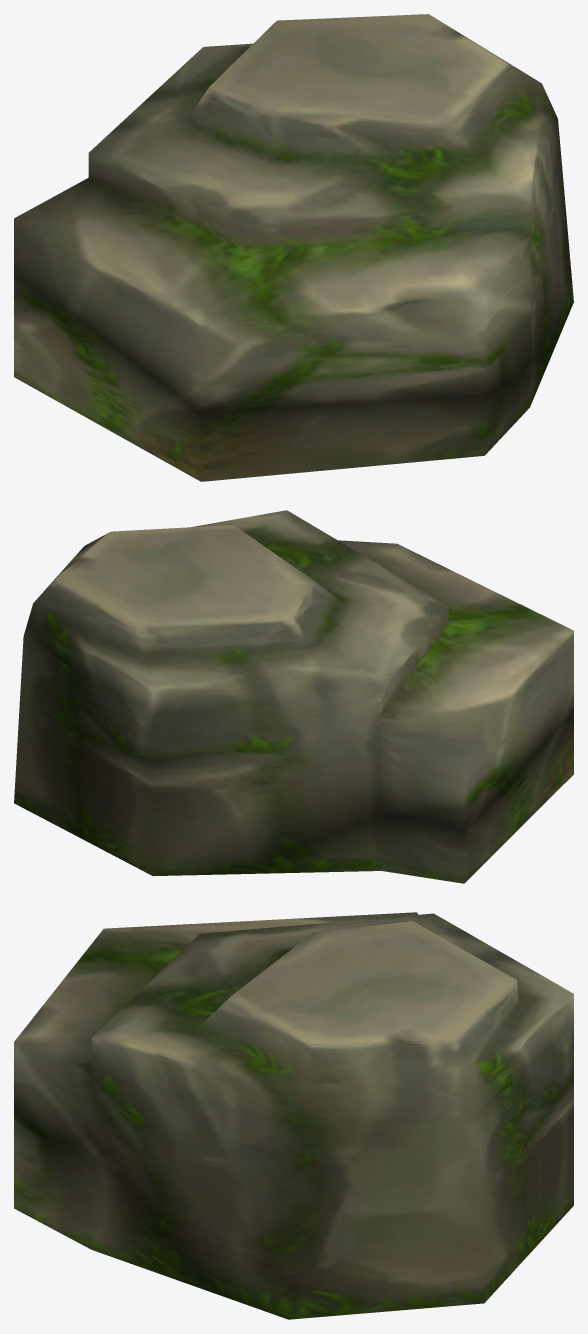
The model's file is RockFormation_4_5 (53).fbx.
3 views of the same model, one above another, from view 1: azimuth 30°, elevation 25°; view 2: azimuth 150°, elevation 25°; view 3: azimuth 270°, elevation 25° (orthographic). The views are drawn at different scales.
Parts seen in each view (by area): view 1: RockFormation_4_5 (53); view 2: RockFormation_4_5 (53); view 3: RockFormation_4_5 (53).
Part boxes in pixels (left/top/right/bottom): RockFormation_4_5 (53): left=14, top=14, right=573, bottom=481; RockFormation_4_5 (53): left=14, top=510, right=573, bottom=883; RockFormation_4_5 (53): left=14, top=912, right=573, bottom=1319.
Bounding box in the file's own units: 2.93 × 1.38 × 2.82.
